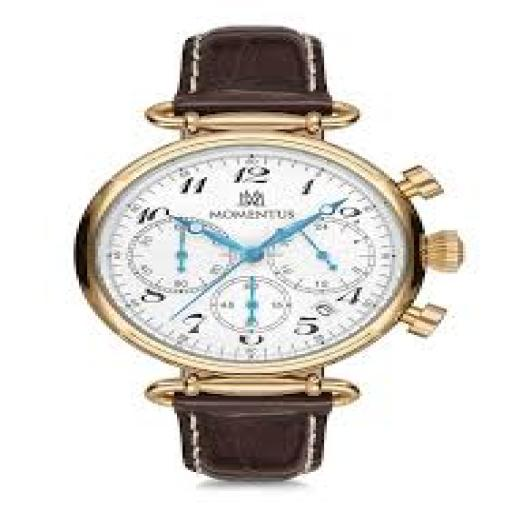KolSaati: (43, 4, 510, 496)
